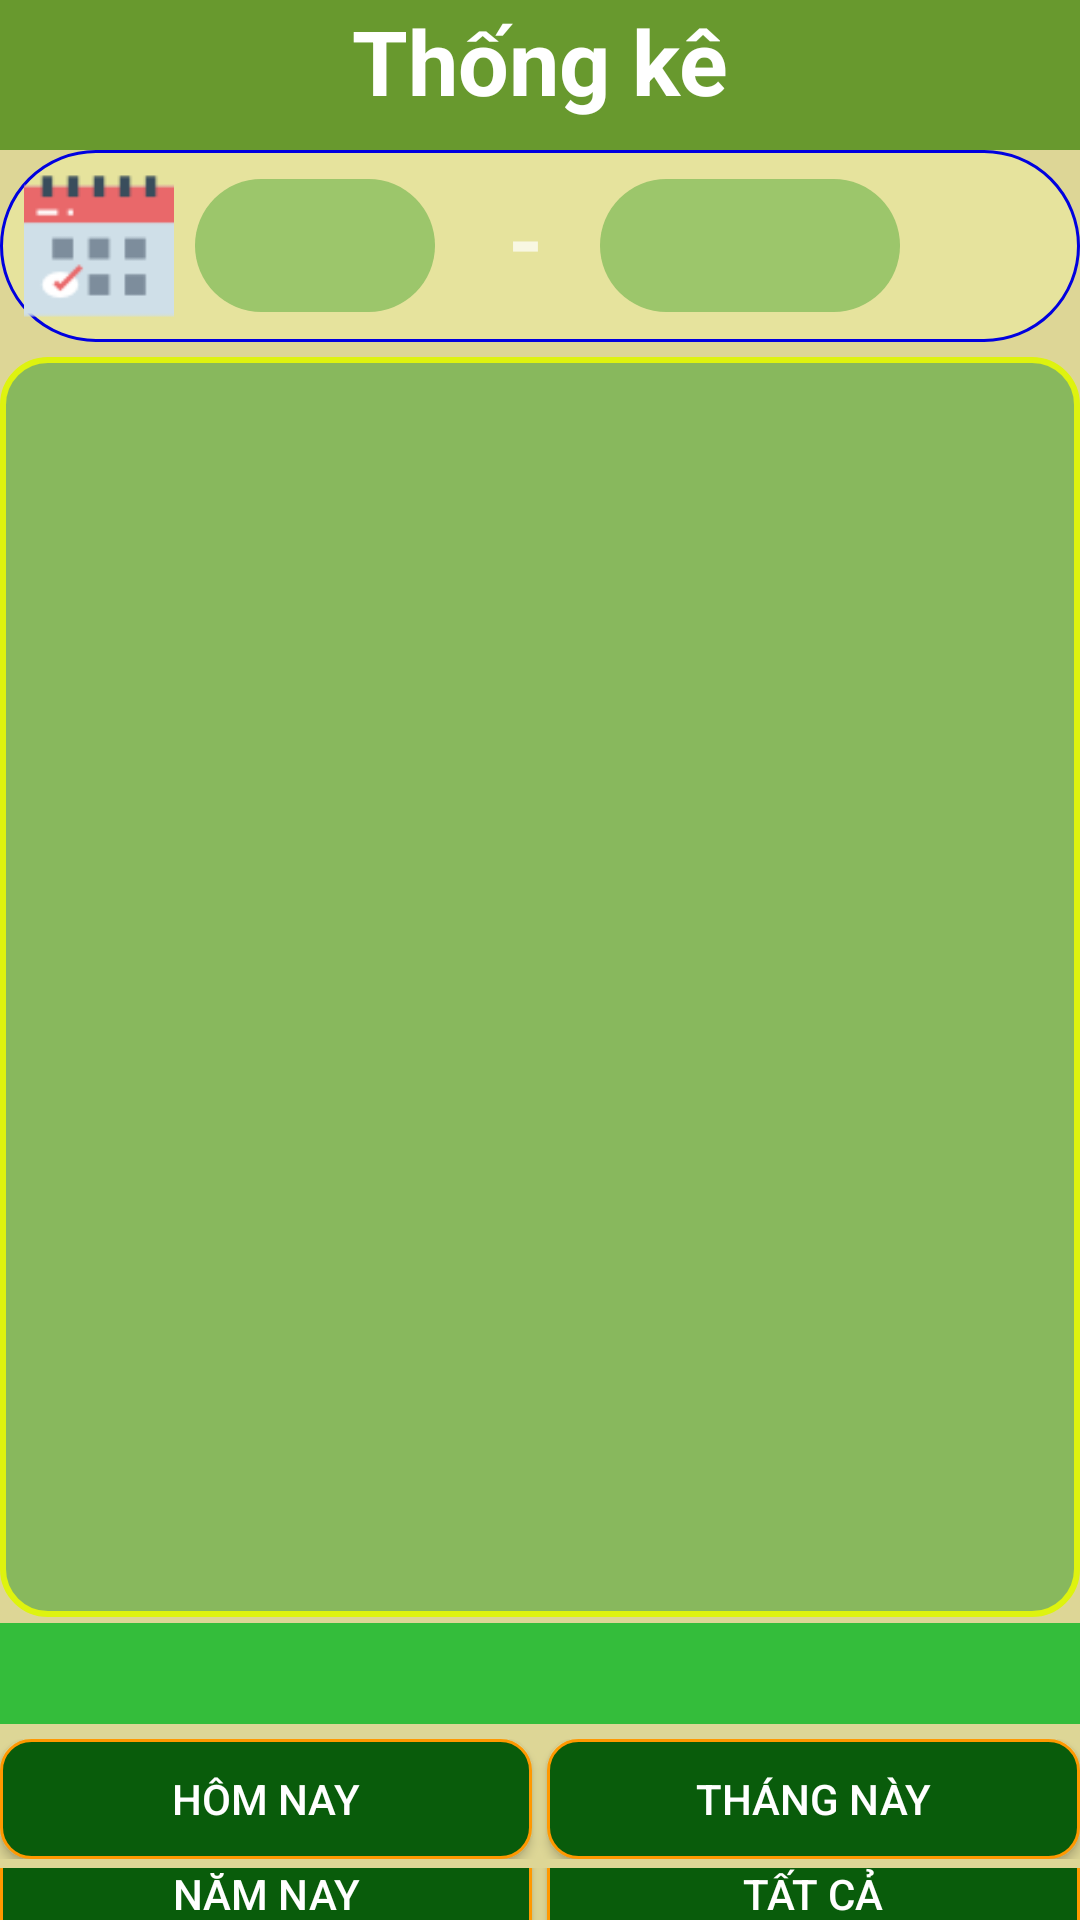

Named icons in this screenshot (1080px x 1920px) and their centers, point (x, y):
calendar: point (99, 246)
